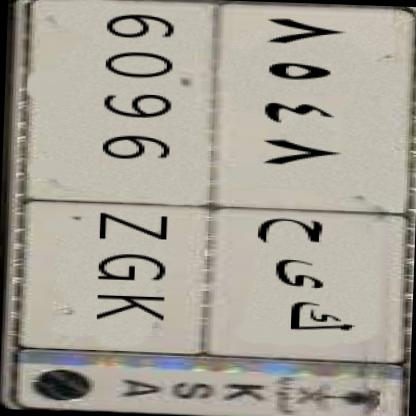english: (8, 0, 265, 367)
